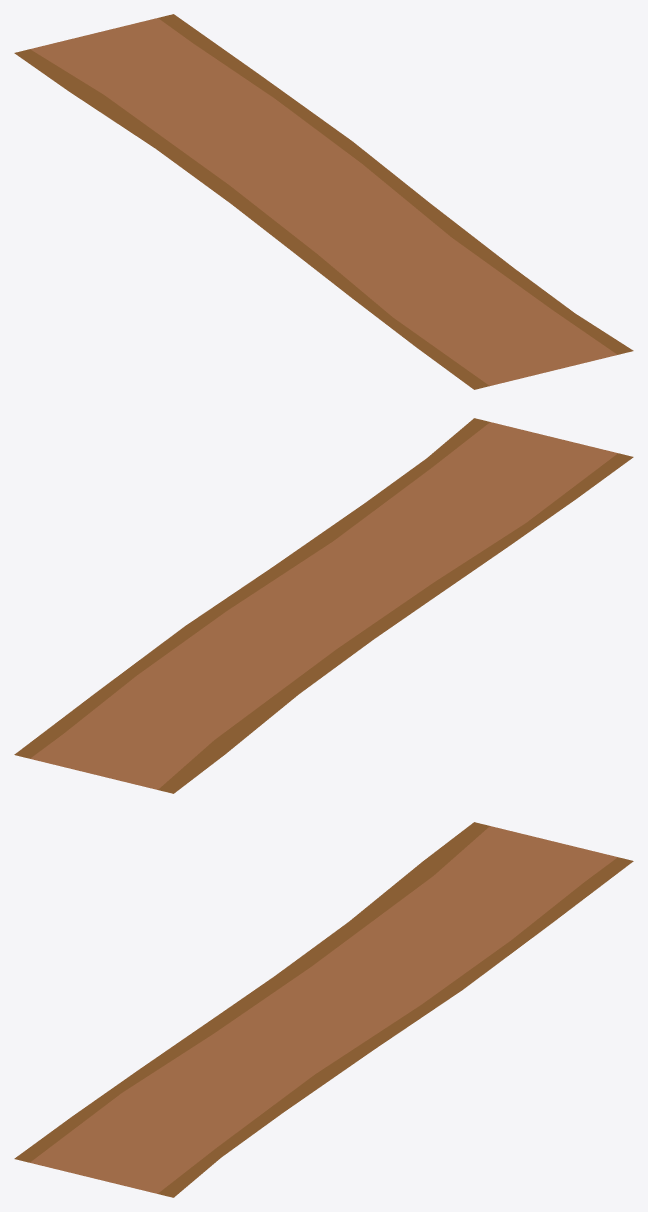
Rendered from dirt_road_medium.fbx.
3 renders of one model, top to bottom at view 1: azimuth 30°, elevation 25°; view 2: azimuth 150°, elevation 25°; view 3: azimuth 330°, elevation 25°, orthographic.
Parts seen in each view (by area): view 1: dirt_road_medium; view 2: dirt_road_medium; view 3: dirt_road_medium.
Boxes of the visible parts, x1,y1,x2,y2 form: dirt_road_medium: (14, 14, 633, 389); dirt_road_medium: (14, 418, 633, 793); dirt_road_medium: (14, 822, 633, 1197).
Size of the model in its own units: 102 by 8.13e-05 by 499.
